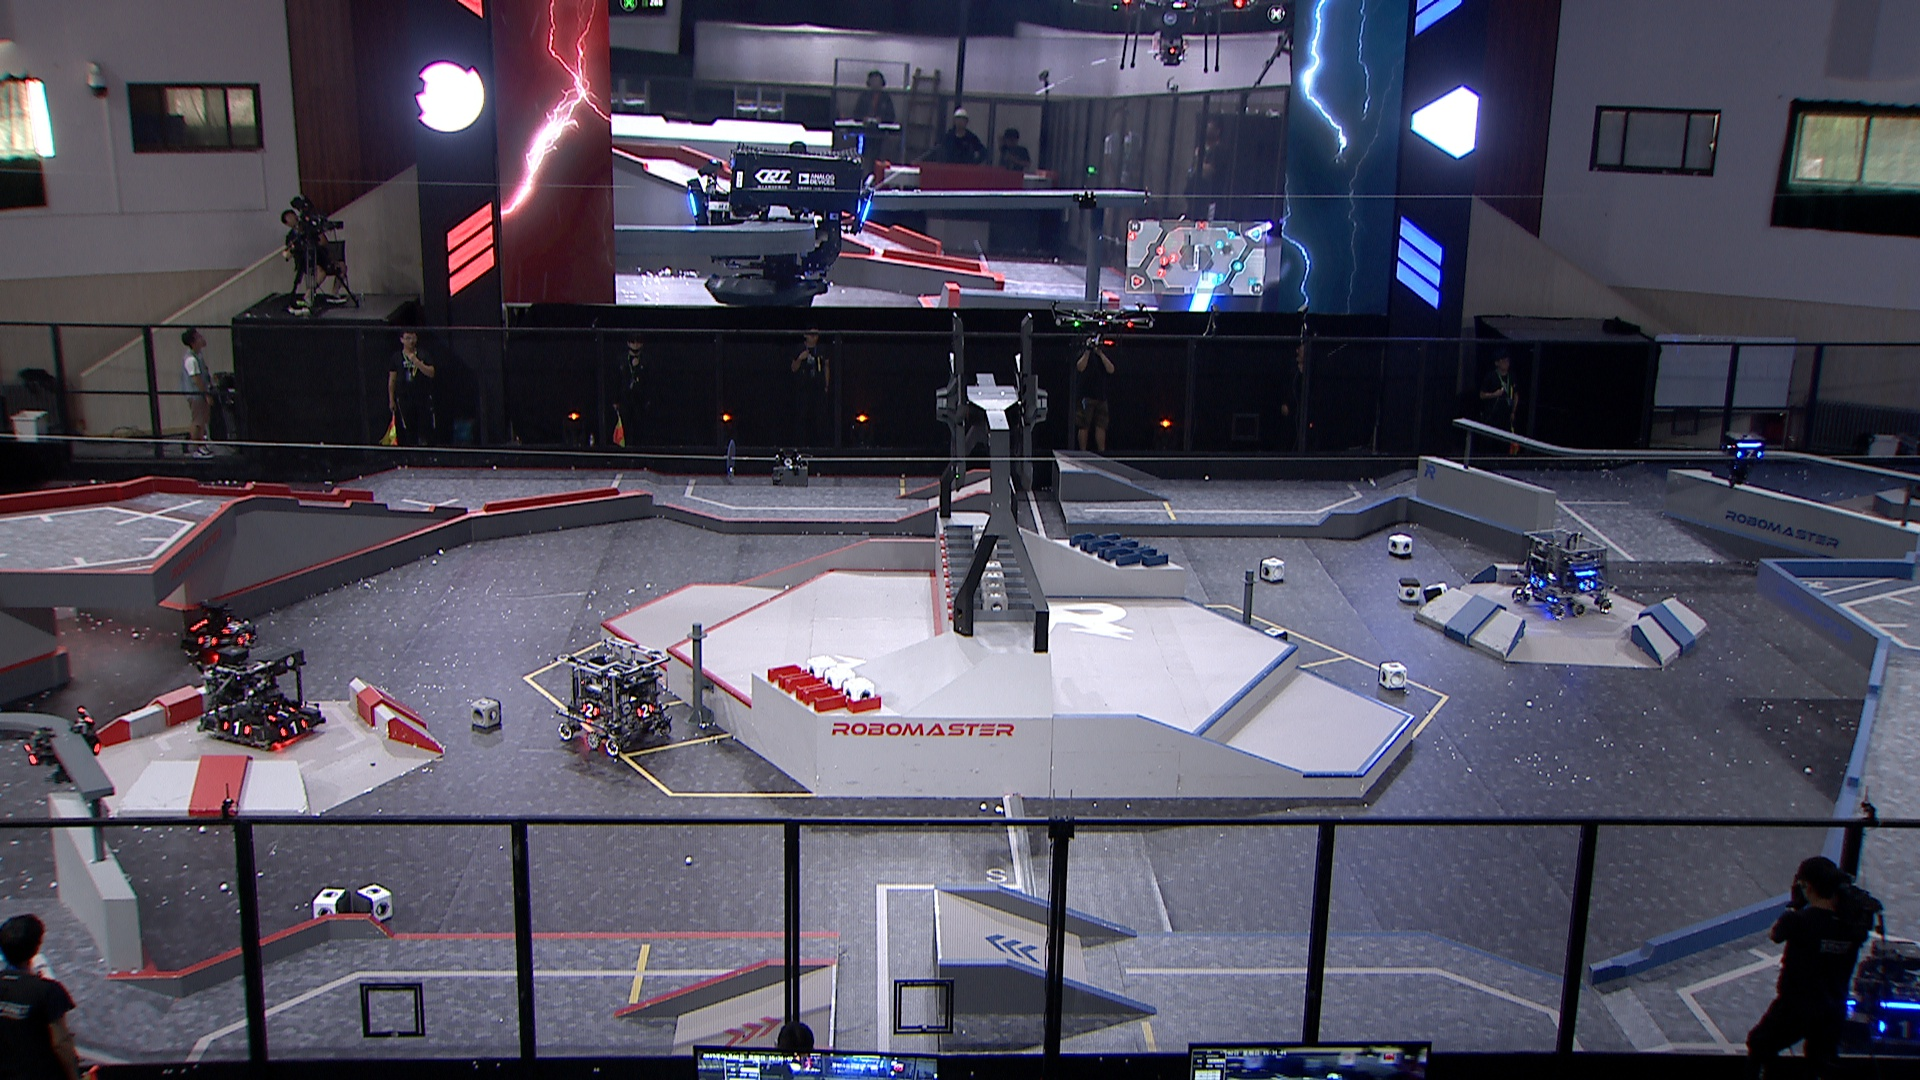armor: (1878, 1017, 1920, 1048), (276, 713, 309, 741), (218, 717, 251, 738), (264, 702, 295, 723), (20, 740, 40, 769), (1733, 447, 1766, 462), (1523, 570, 1545, 591), (632, 702, 655, 721), (579, 699, 599, 721), (235, 628, 255, 647), (1575, 575, 1596, 593), (195, 632, 215, 650)
car: (553, 636, 675, 756), (196, 645, 324, 750), (1826, 934, 1920, 1048), (1510, 526, 1614, 622), (178, 593, 258, 659)
ignore: (683, 136, 877, 309)
watcher: (22, 703, 109, 785), (1718, 429, 1771, 491)
